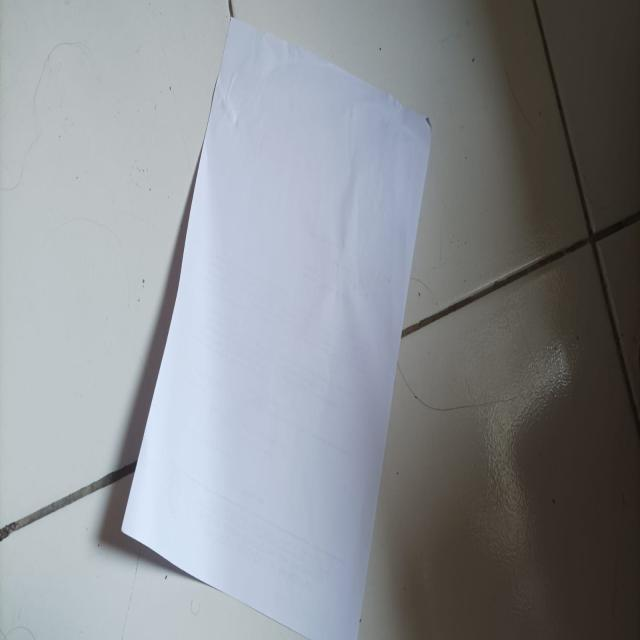Organik: (122, 19, 434, 640)
